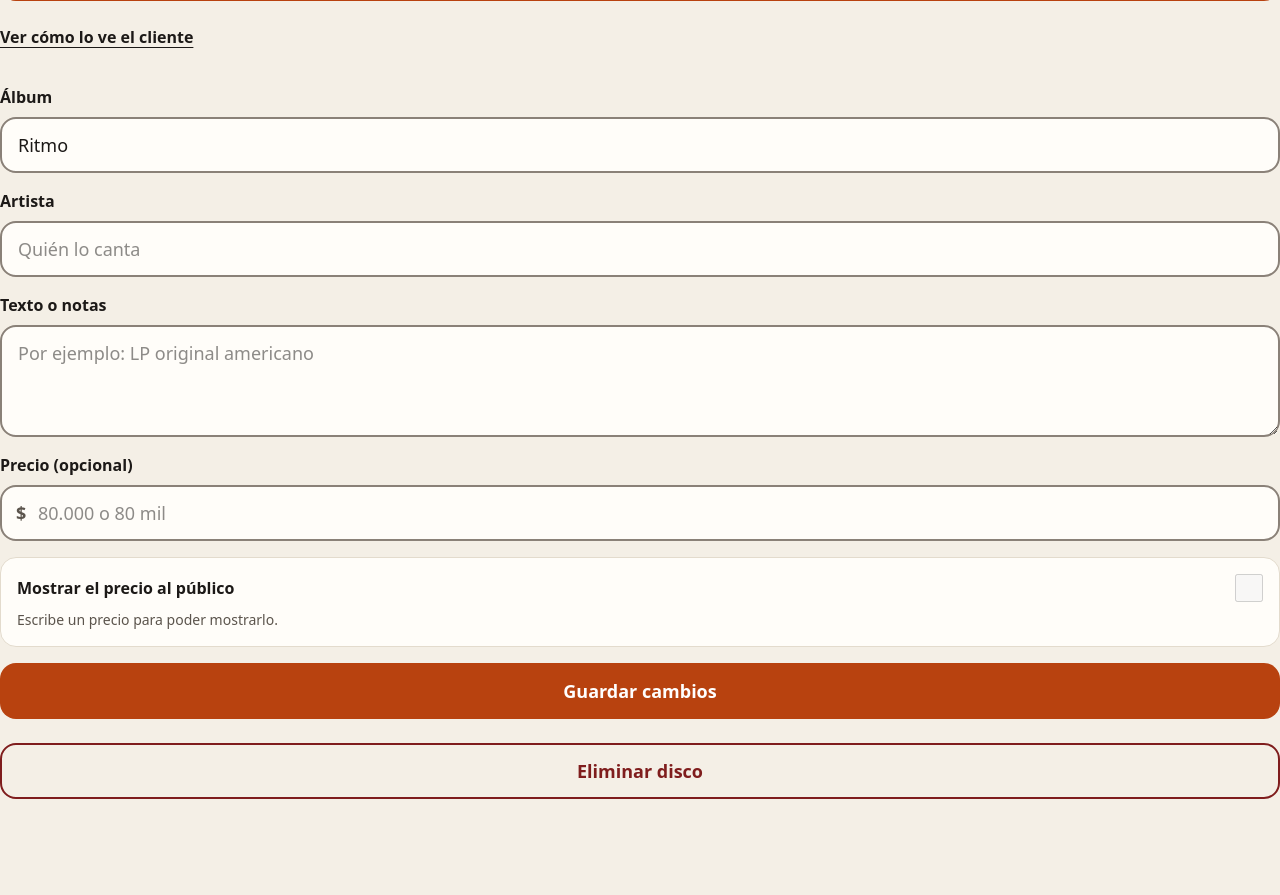
Test: RecordDetail › deleting the record › asks first and deletes nothing until it is confirmed
(page scrolled)
Click the button "Eliminar disco". click: coordinates (640, 771)
box: [0, 743, 1279, 799]
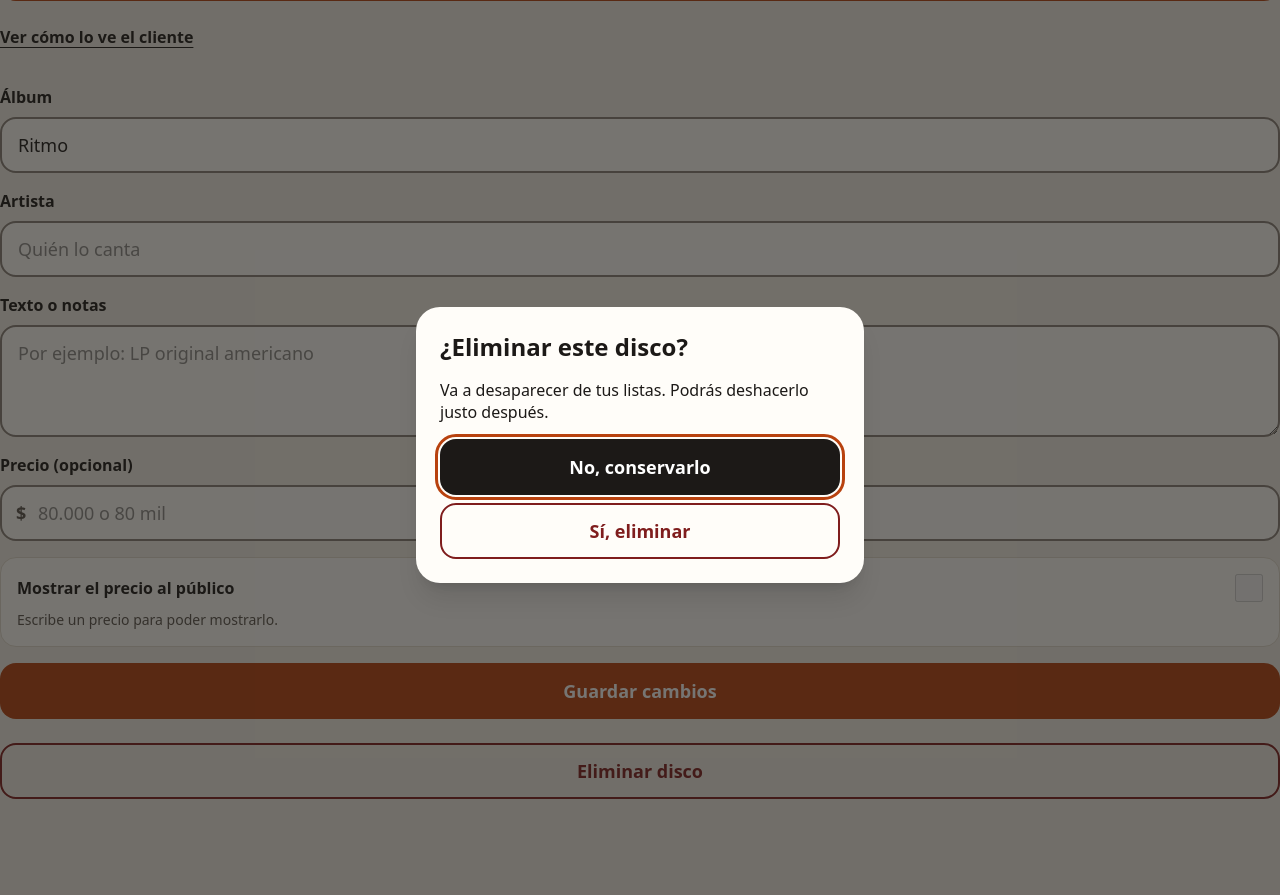
Check: the dialog "¿Eliminar este disco?" is shown, box [416, 307, 864, 583]
